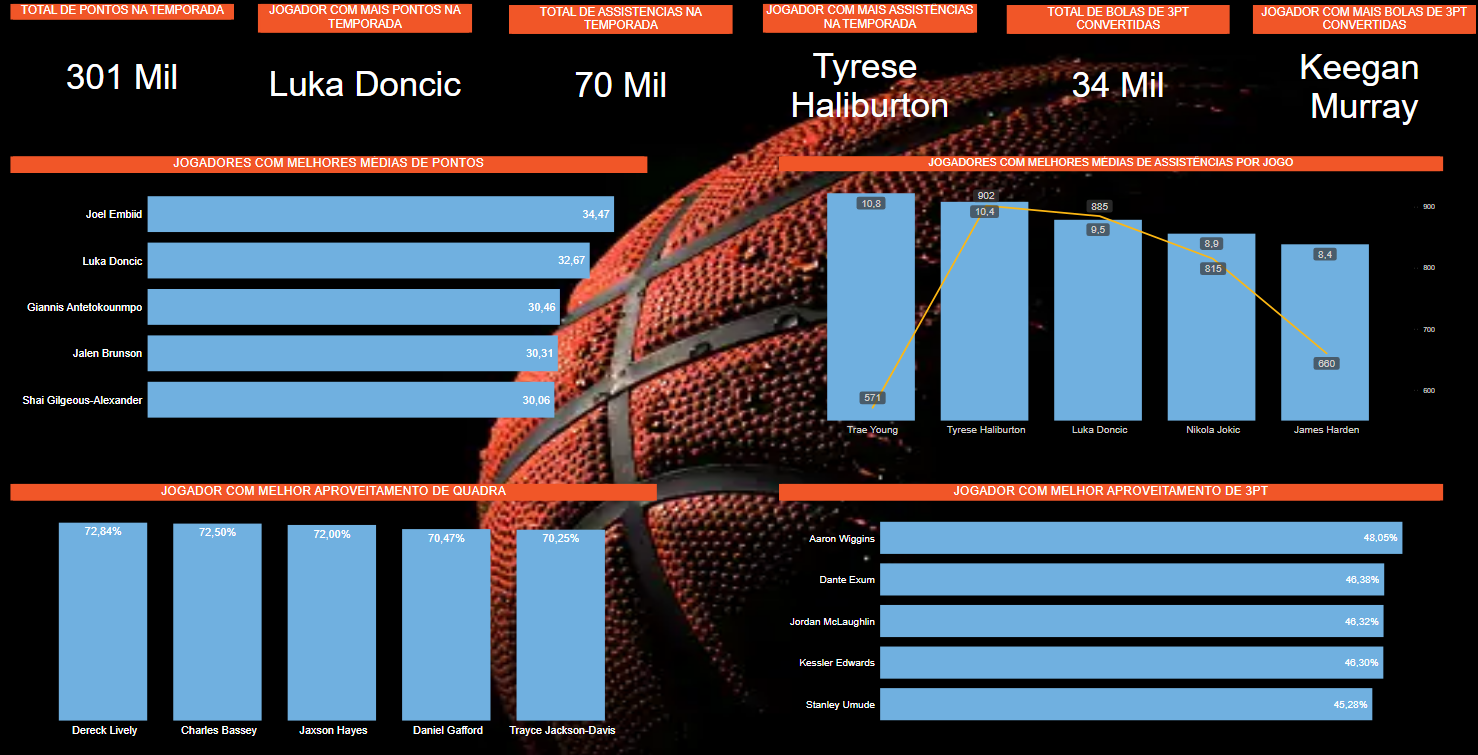

The page's visual inventory and layout, read from the dashboard file:
{"tool":"powerbi","page":{"name":"ESTATÍSTICAS OFENSIVAS","canvas":[2550,1300],"ordinal":0},"visuals":[{"type":"columnChart","title":"JOGADOR COM MELHOR APROVEITAMENTO DE QUADRA","fields":{"Category":["public dim_jogador.jogador"],"Y":["public fat_performance.FG %"]},"box":[18.5,831.6,1111.9,442.5],"z":0},{"type":"barChart","title":"JOGADOR COM MELHOR APROVEITAMENTO DE 3PT","fields":{"Category":["public dim_jogador.jogador"],"Y":["public fat_performance.FG % Com Filtro"]},"box":[1341.3,831.6,1142,442.5],"z":1000},{"type":"barChart","title":"JOGADORES COM MELHORES MÉDIAS DE PONTOS","fields":{"Category":["public dim_jogador.jogador"],"Y":["public fat_performance.Media_Pontos_por_Jogo"]},"box":[18.5,268.7,1095.7,488.8],"z":2000},{"type":"lineStackedColumnComboChart","title":"JOGADORES COM MELHORES MÉDIAS DE ASSISTÊNCIAS POR JOGO","fields":{"Category":["public dim_jogador.jogador"],"Y":["public fat_performance.Media_Assistencias_por_Jogo"],"Y2":["public fat_performance.ast"]},"box":[1341.3,268.7,1142,488.8],"z":3000},{"type":"card","title":"JOGADOR COM MAIS PONTOS NA TEMPORADA","fields":{"Values":["public fat_performance.Jogador_Com_Mais_Pontos"]},"box":[444.1,7.1,368.5,219.7],"z":4000},{"type":"card","title":"TOTAL DE PONTOS NA TEMPORADA","fields":{"Values":["public fat_performance.pts"]},"box":[18.9,7.1,385,219.7],"z":5000},{"type":"card","title":"TOTAL DE ASSISTENCIAS NA TEMPORADA","fields":{"Values":["public fat_performance.ast"]},"box":[877.4,7.7,384.5,219.4],"z":6000},{"type":"card","title":"JOGADOR COM MAIS ASSISTÊNCIAS NA TEMPORADA","fields":{"Values":["public fat_performance.Jogador_Com_Mais_Assists"]},"box":[1313.4,7.1,368.5,219.7],"z":7000},{"type":"card","title":"TOTAL DE BOLAS DE 3PT CONVERTIDAS","fields":{"Values":["public fat_performance.three_p"]},"box":[1732.9,8.2,383.9,219.4],"z":8000},{"type":"card","title":"JOGADOR COM MAIS BOLAS DE 3PT CONVERTIDAS","fields":{"Values":["public fat_performance.Jogador_Com_Mais_3PT"]},"box":[2155.2,8.2,383.9,219.4],"z":9000}]}

Visuals, with their boxes in screenshot pixels (x1, y1, x2, y2), scaled from the page's 2550x1300 canvas onto the 1478x755 screenshot:
"JOGADOR COM MELHOR APROVEITAMENTO DE QUADRA" columnChart: <box>11,483,655,740</box>
"JOGADOR COM MELHOR APROVEITAMENTO DE 3PT" barChart: <box>777,483,1439,740</box>
"JOGADORES COM MELHORES MÉDIAS DE PONTOS" barChart: <box>11,156,646,440</box>
"JOGADORES COM MELHORES MÉDIAS DE ASSISTÊNCIAS POR JOGO" lineStackedColumnComboChart: <box>777,156,1439,440</box>
"JOGADOR COM MAIS PONTOS NA TEMPORADA" card: <box>257,4,471,132</box>
"TOTAL DE PONTOS NA TEMPORADA" card: <box>11,4,234,132</box>
"TOTAL DE ASSISTENCIAS NA TEMPORADA" card: <box>509,4,731,132</box>
"JOGADOR COM MAIS ASSISTÊNCIAS NA TEMPORADA" card: <box>761,4,975,132</box>
"TOTAL DE BOLAS DE 3PT CONVERTIDAS" card: <box>1004,5,1227,132</box>
"JOGADOR COM MAIS BOLAS DE 3PT CONVERTIDAS" card: <box>1249,5,1472,132</box>
